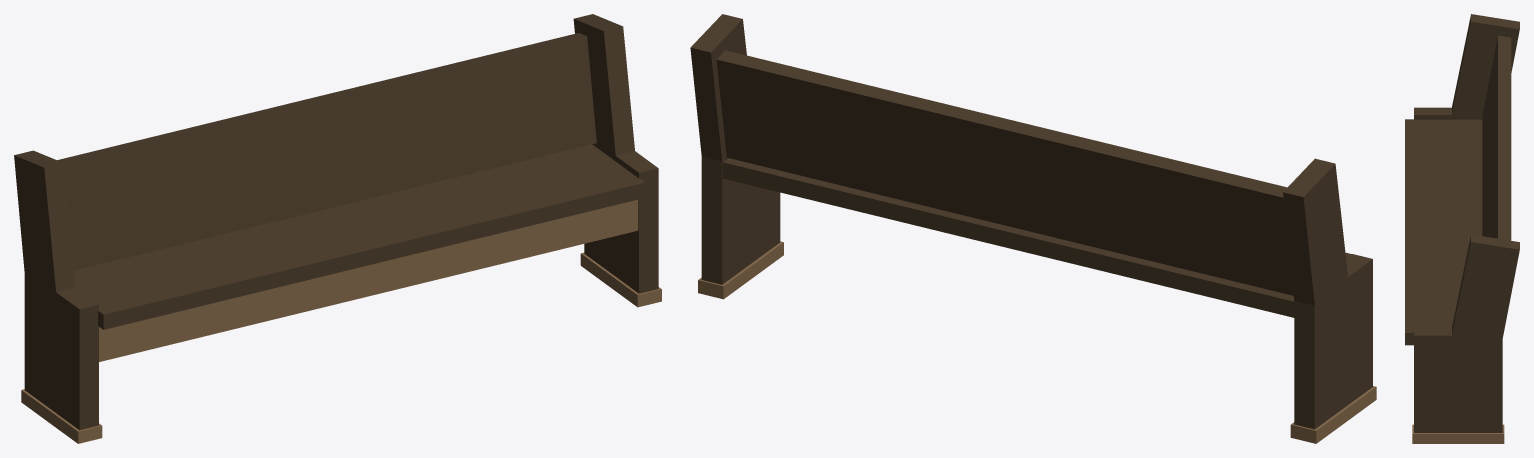
File: ChurchMiscBench.glb
3 views of the same model, side by side, from view 1: azimuth 30°, elevation 25°; view 2: azimuth 150°, elevation 25°; view 3: azimuth 270°, elevation 25° (orthographic). The views are drawn at different scales.
Parts seen in each view (by area): view 1: ChurchBenchSpare; view 2: ChurchBenchSpare; view 3: ChurchBenchSpare.
Part boxes in pixels (x1,y1,x2,y2): ChurchBenchSpare: [14, 14, 661, 443]; ChurchBenchSpare: [690, 14, 1376, 443]; ChurchBenchSpare: [1405, 14, 1519, 443].
Bounding box in the file's own units: 1.89 × 0.7706 × 0.3987.
Materials: 1 (1 with a texture image).
